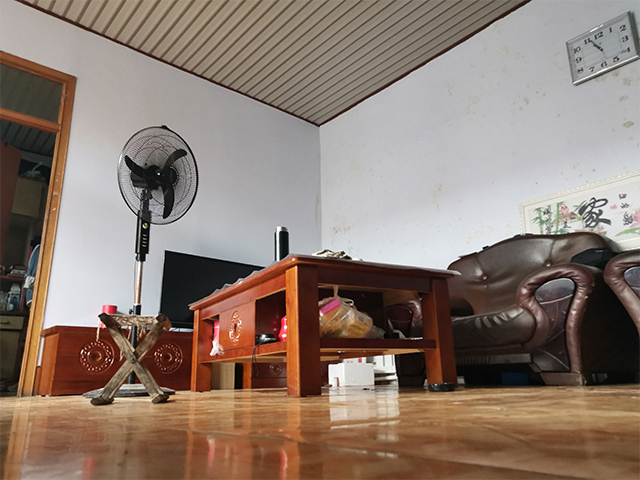cabinet: (34, 324, 195, 399)
sofa: (446, 229, 640, 387)
stool: (88, 311, 174, 407)
table: (186, 252, 464, 398)
